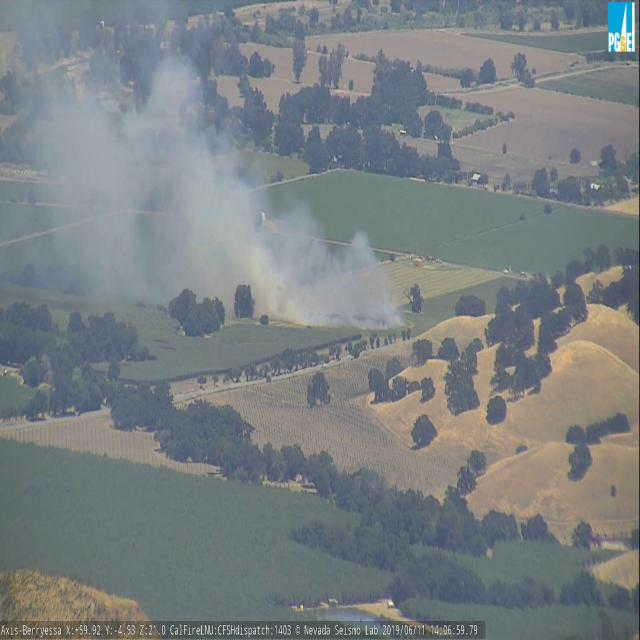smoke: (0, 0, 410, 344)
